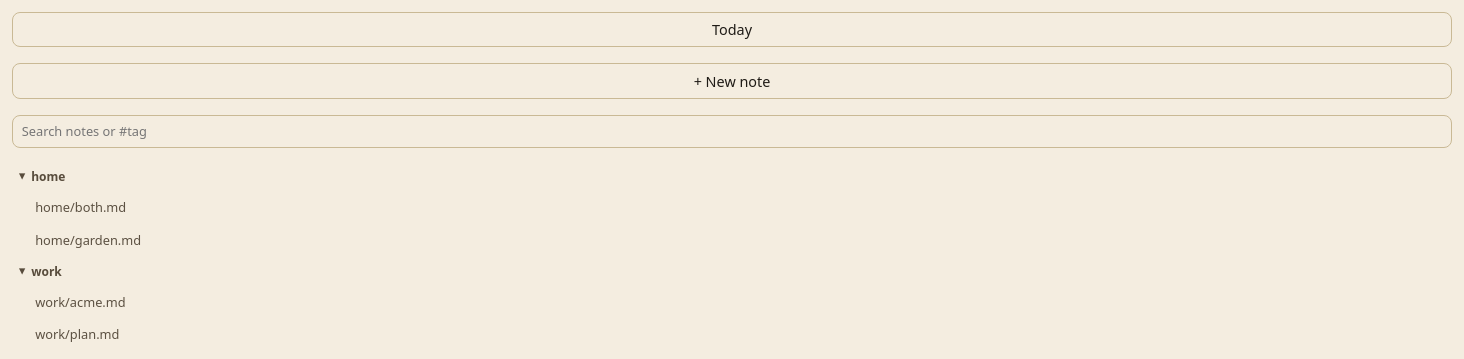
NoteBrowser tag search › picks by click
Type "#ho" into the dropdown.
click(732, 131); type("#ho")  # box [19, 120, 1445, 142]
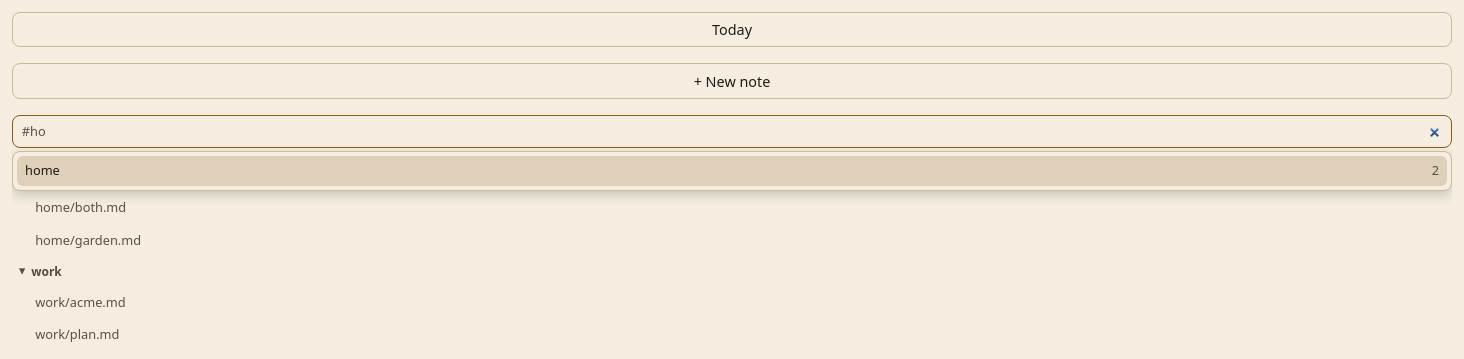
Click the option "home 2".
click(42, 170)  # box [17, 156, 1447, 186]
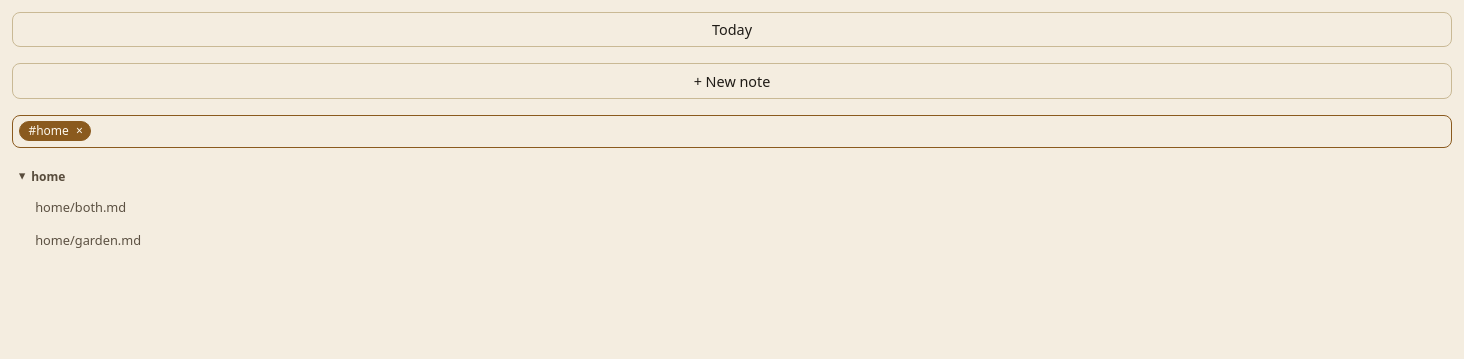
Expected: the button named "Remove tag home" is shown, [69, 122, 90, 140]
